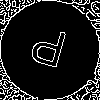P: (25, 25, 70, 78)
